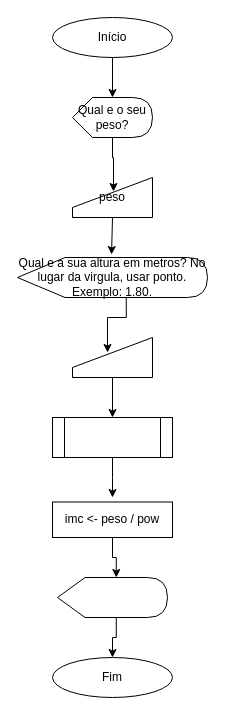
The diagram is 225 pixels wide and 715 high, and some of its shapes have lost their labels. The centre of each missing label's shape, as x and y in pixels:
altura: the point at 112,357
pow( altura, 2 ): the point at 112,437
Seu IMC(Indice de massa corporea) e de: imc: the point at 112,597
